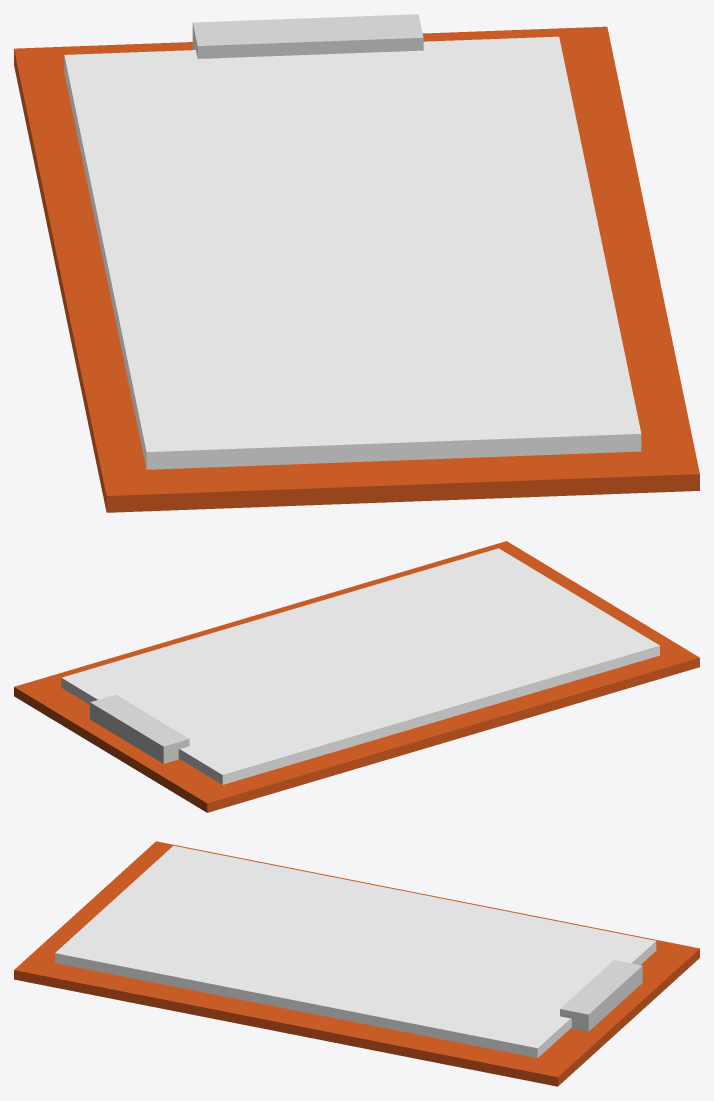
File: Clipboard.FBX
The picture shows the model from 3 angles, top to bottom: view 1: azimuth 30°, elevation 25°; view 2: azimuth 150°, elevation 25°; view 3: azimuth 270°, elevation 25°; orthographic projection. The views are drawn at different scales.
Parts seen in each view (by area): view 1: Paper002, ClipBoard002, ClipBoard_PaperHolder002; view 2: Paper002, ClipBoard002, ClipBoard_PaperHolder002; view 3: Paper002, ClipBoard002, ClipBoard_PaperHolder002.
Part boxes in pixels (left/top/right/bottom): Paper002: left=64, top=36, right=641, bottom=469; ClipBoard002: left=14, top=26, right=699, bottom=512; ClipBoard_PaperHolder002: left=192, top=14, right=423, bottom=58; Paper002: left=61, top=548, right=659, bottom=784; ClipBoard002: left=14, top=541, right=699, bottom=812; ClipBoard_PaperHolder002: left=90, top=694, right=189, bottom=763; Paper002: left=55, top=845, right=656, bottom=1058; ClipBoard002: left=14, top=841, right=699, bottom=1086; ClipBoard_PaperHolder002: left=560, top=960, right=642, bottom=1031.
Bounding box in the file's own units: 24.38 × 1.33 × 29.95.
